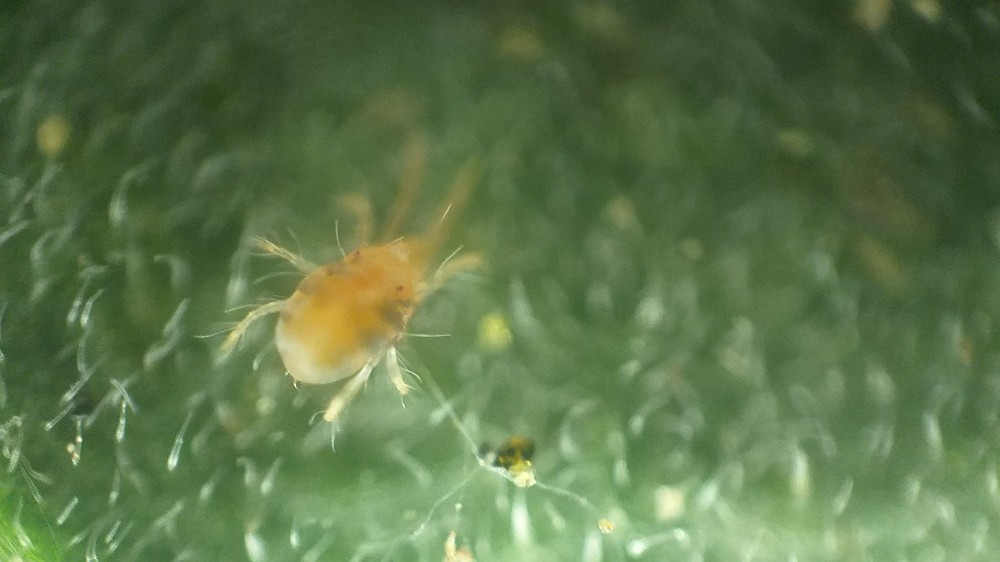Aracnido Rojo: (193, 131, 505, 441)
